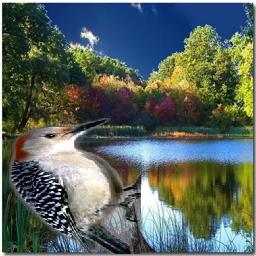Woodpecker: (9, 118, 141, 254)
